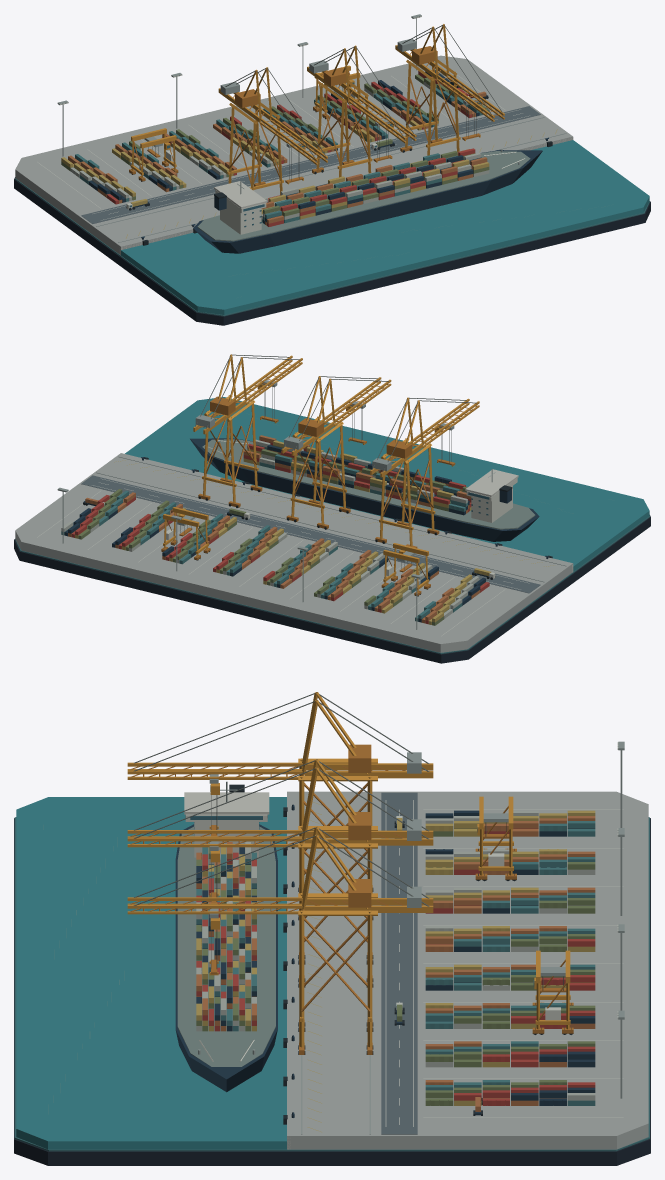
File: mysterios9.glb
The picture shows the model from 3 angles, top to bottom: view 1: azimuth 30°, elevation 25°; view 2: azimuth 150°, elevation 25°; view 3: azimuth 270°, elevation 25°; orthographic projection. The views are drawn at different scales.
Parts seen in each view (by area): view 1: WATER_Mesh, QUAY_Mesh, ContainerVessel_Mesh, CONTAINER_YARD_Mesh, BASE_Mesh, STS_03_Frame_Mesh, STS_02_Frame_Mesh, STS_01_Frame_Mesh, ROAD_MARKINGS_Mesh, RTG_01_Frame_Mesh, STS_03_OutreachBoom_Mesh, STS_02_OutreachBoom_Mesh (+3 smaller); view 2: QUAY_Mesh, WATER_Mesh, ContainerVessel_Mesh, CONTAINER_YARD_Mesh, BASE_Mesh, STS_03_Frame_Mesh, STS_02_Frame_Mesh, STS_01_Frame_Mesh, ROAD_MARKINGS_Mesh, RTG_01_Frame_Mesh, RTG_02_Frame_Mesh, STS_01_OutreachBoom_Mesh (+3 smaller); view 3: QUAY_Mesh, WATER_Mesh, CONTAINER_YARD_Mesh, ContainerVessel_Mesh, BASE_Mesh, STS_03_Frame_Mesh, STS_02_Frame_Mesh, STS_01_Frame_Mesh, ROAD_MARKINGS_Mesh, STS_01_OutreachBoom_Mesh, STS_03_OutreachBoom_Mesh, STS_02_OutreachBoom_Mesh (+3 smaller).
Part boxes in pixels (left/top/right/bottom): WATER_Mesh: left=121, top=140, right=649, bottom=314; QUAY_Mesh: left=15, top=55, right=573, bottom=255; ContainerVessel_Mesh: left=193, top=148, right=542, bottom=253; CONTAINER_YARD_Mesh: left=61, top=68, right=489, bottom=204; BASE_Mesh: left=14, top=177, right=650, bottom=325; STS_03_Frame_Mesh: left=395, top=24, right=502, bottom=155; STS_02_Frame_Mesh: left=307, top=45, right=413, bottom=177; STS_01_Frame_Mesh: left=218, top=67, right=325, bottom=195; ROAD_MARKINGS_Mesh: left=37, top=75, right=557, bottom=238; RTG_01_Frame_Mesh: left=129, top=128, right=178, bottom=181; STS_03_OutreachBoom_Mesh: left=437, top=73, right=504, bottom=121; STS_02_OutreachBoom_Mesh: left=349, top=94, right=416, bottom=143; QUAY_Mesh: left=15, top=453, right=573, bottom=652; WATER_Mesh: left=125, top=397, right=649, bottom=571; ContainerVessel_Mesh: left=190, top=435, right=539, bottom=541; CONTAINER_YARD_Mesh: left=61, top=489, right=489, bottom=625; BASE_Mesh: left=14, top=515, right=650, bottom=663; STS_03_Frame_Mesh: left=193, top=354, right=300, bottom=507; STS_02_Frame_Mesh: left=281, top=376, right=388, bottom=529; STS_01_Frame_Mesh: left=370, top=397, right=476, bottom=548; ROAD_MARKINGS_Mesh: left=37, top=460, right=553, bottom=636; RTG_01_Frame_Mesh: left=381, top=543, right=430, bottom=596; RTG_02_Frame_Mesh: left=161, top=507, right=210, bottom=560; STS_01_OutreachBoom_Mesh: left=413, top=398, right=479, bottom=447; QUAY_Mesh: left=287, top=791, right=648, bottom=1149; WATER_Mesh: left=16, top=797, right=286, bottom=1149; CONTAINER_YARD_Mesh: left=425, top=810, right=595, bottom=1105; ContainerVessel_Mesh: left=175, top=781, right=277, bottom=1092; BASE_Mesh: left=14, top=817, right=650, bottom=1165; STS_03_Frame_Mesh: left=133, top=826, right=433, bottom=1054; STS_02_Frame_Mesh: left=134, top=759, right=433, bottom=987; STS_01_Frame_Mesh: left=133, top=692, right=433, bottom=920; ROAD_MARKINGS_Mesh: left=307, top=800, right=623, bottom=1132; STS_01_OutreachBoom_Mesh: left=127, top=762, right=303, bottom=779; STS_03_OutreachBoom_Mesh: left=127, top=897, right=303, bottom=914; STS_02_OutreachBoom_Mesh: left=127, top=830, right=303, bottom=847.
Bounding box in the file's own units: 36 × 11.6 × 28.
